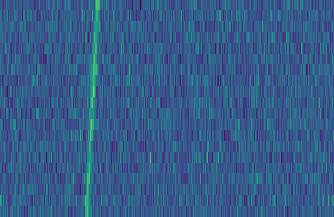signal: (79, 0, 100, 217)
